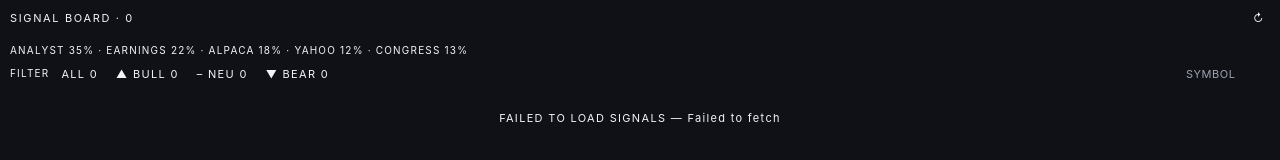
Test: SignalsPanelV2 request-failure messaging › clears the thrown-request error after a successful refresh
Expected: the text "FAILED TO LOAD SIGNALS — Failed to fetch" is shown, [499,111,781,125]
What coordinates should you click on to do the following:
click the button "↻"
I would click on:
 (1258, 18)
Its box is [1247,8,1270,28].
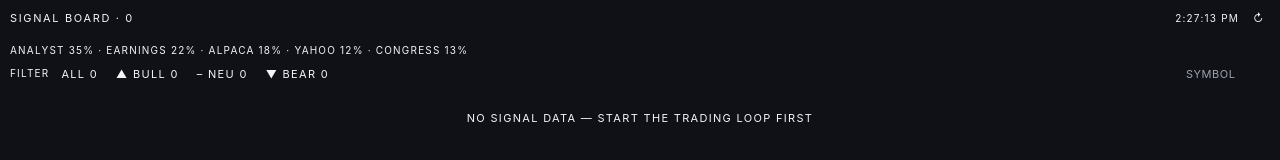
Result: the text "FAILED TO LOAD SIGNALS — Failed to fetch" is gone
